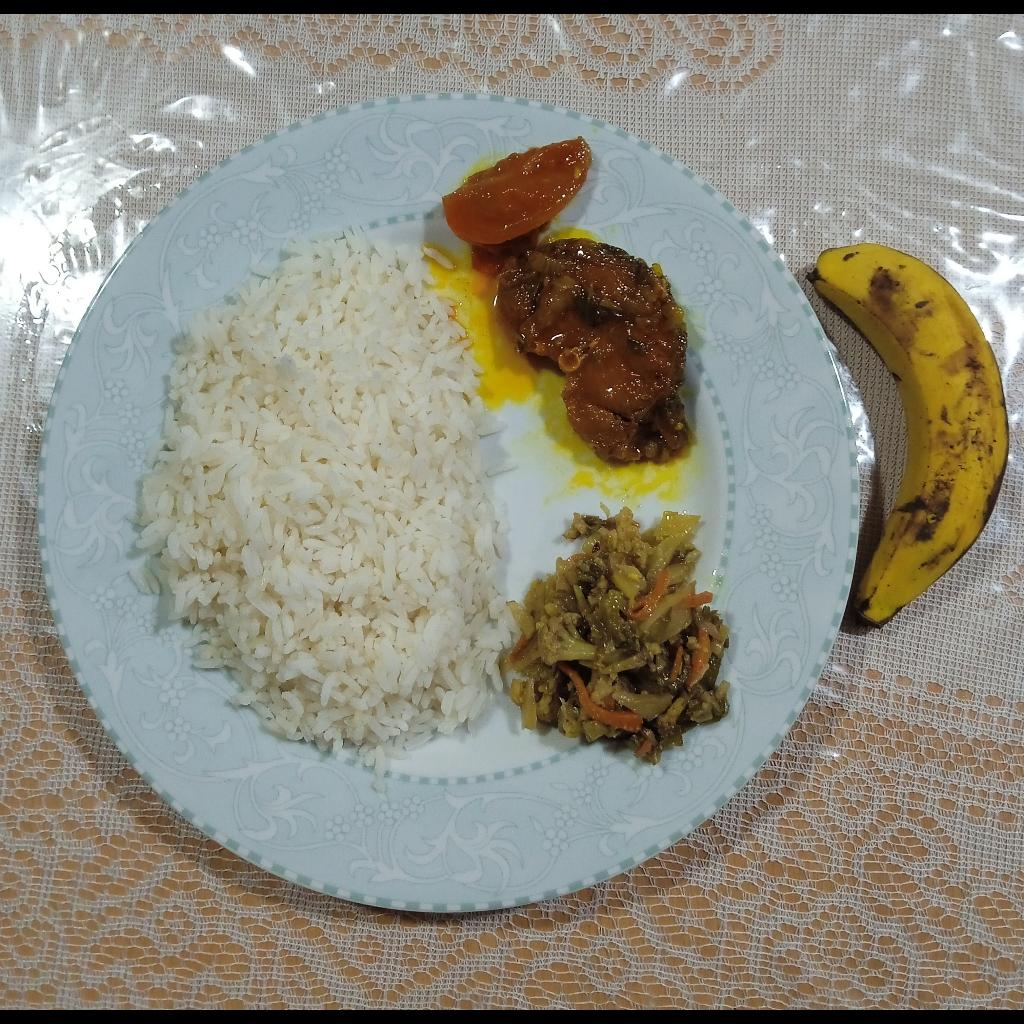banana: (814, 246, 1019, 621)
fish: (493, 242, 686, 455)
rice: (129, 252, 514, 760)
tomato: (442, 136, 593, 243)
vegetable: (496, 505, 723, 758)
